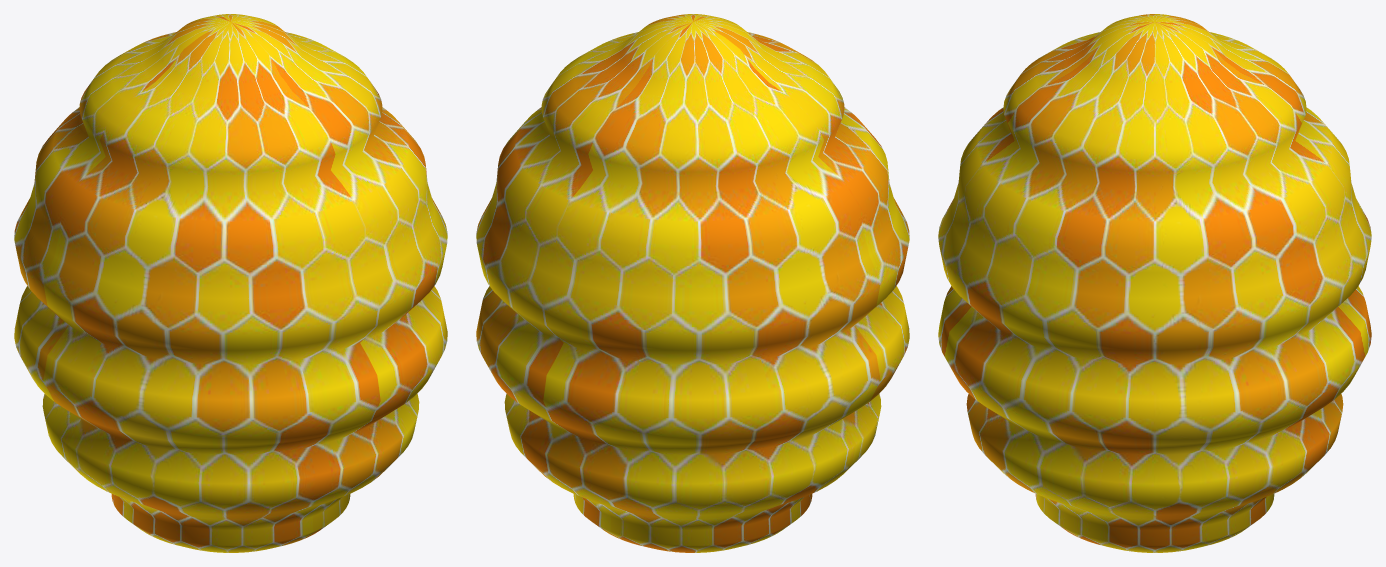
The model's file is hive.fbx.
The picture shows the model from 3 angles, left to right: view 1: azimuth 30°, elevation 25°; view 2: azimuth 150°, elevation 25°; view 3: azimuth 270°, elevation 25°; orthographic projection.
Parts seen in each view (by area): view 1: Sphere; view 2: Sphere; view 3: Sphere.
Part boxes in pixels (left/top/right/bottom): Sphere: left=14, top=14, right=447, bottom=552; Sphere: left=476, top=14, right=909, bottom=552; Sphere: left=938, top=14, right=1371, bottom=552.
Size of the model in its own units: 339 by 445 by 339.
